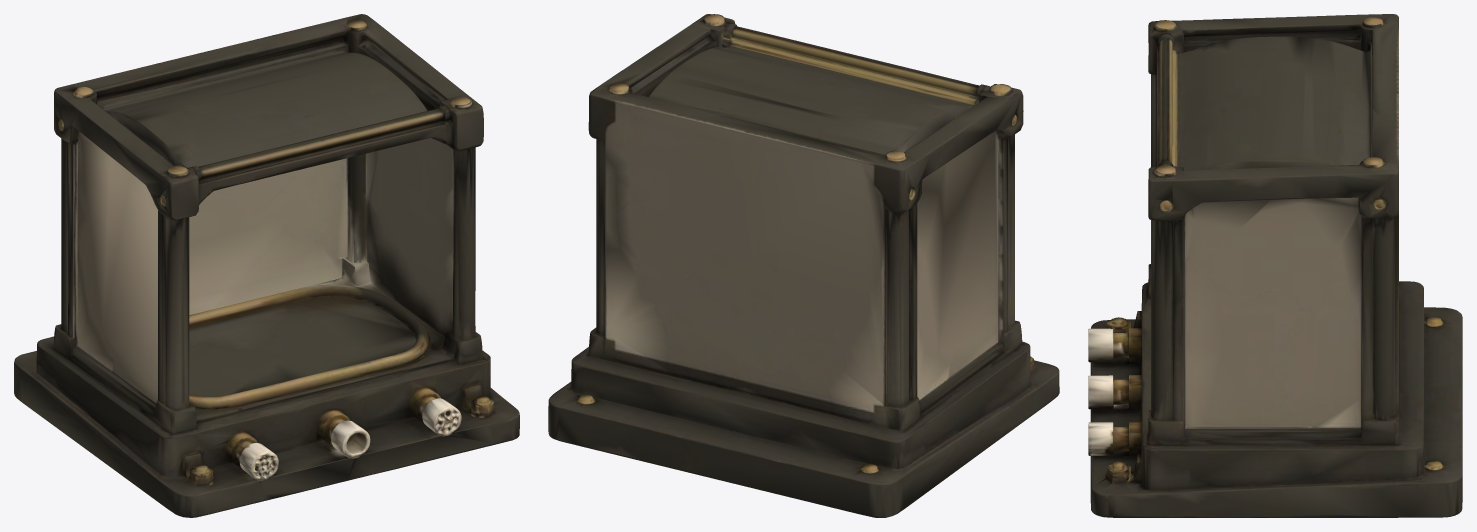
Rendered from hero-harness-chassis-v1.glb.
3 views of the same model, side by side, from view 1: azimuth 30°, elevation 25°; view 2: azimuth 150°, elevation 25°; view 3: azimuth 270°, elevation 25° (orthographic). The views are drawn at different scales.
Parts seen in each view (by area): view 1: node_0; view 2: node_0; view 3: node_0.
Boxes of the visible parts, bbox=[...] form: node_0: bbox=[14, 14, 519, 517]; node_0: bbox=[548, 14, 1059, 517]; node_0: bbox=[1088, 14, 1462, 517].
Bounding box in the file's own units: 0.7618 × 0.6896 × 0.685.
1 material, 1 textured.
